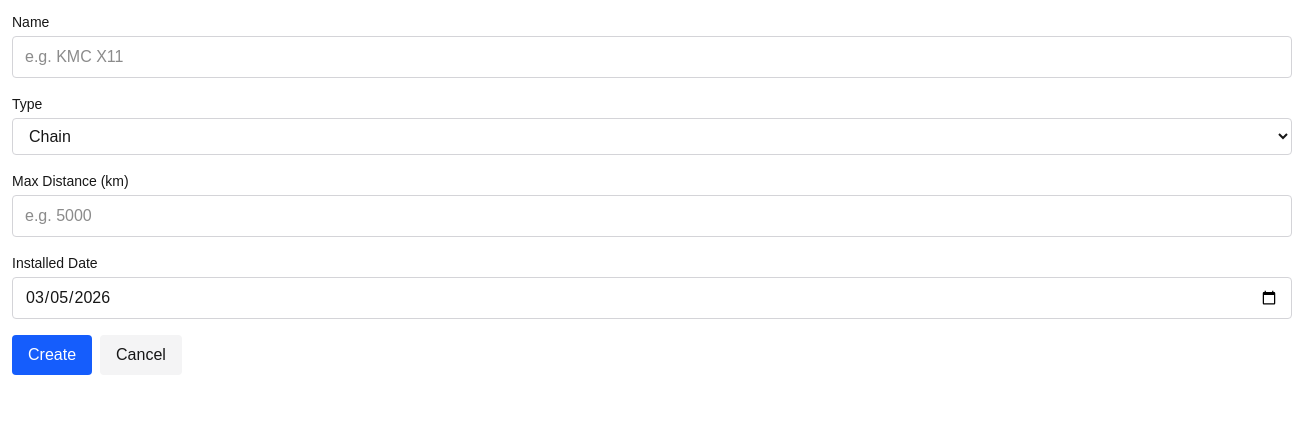
ComponentForm › shows error when name is empty
Type "5000" into the number field labelled "Max Distance (km)".
click(652, 216); type("5000")  # box x1=12 y1=195 x2=1292 y2=237
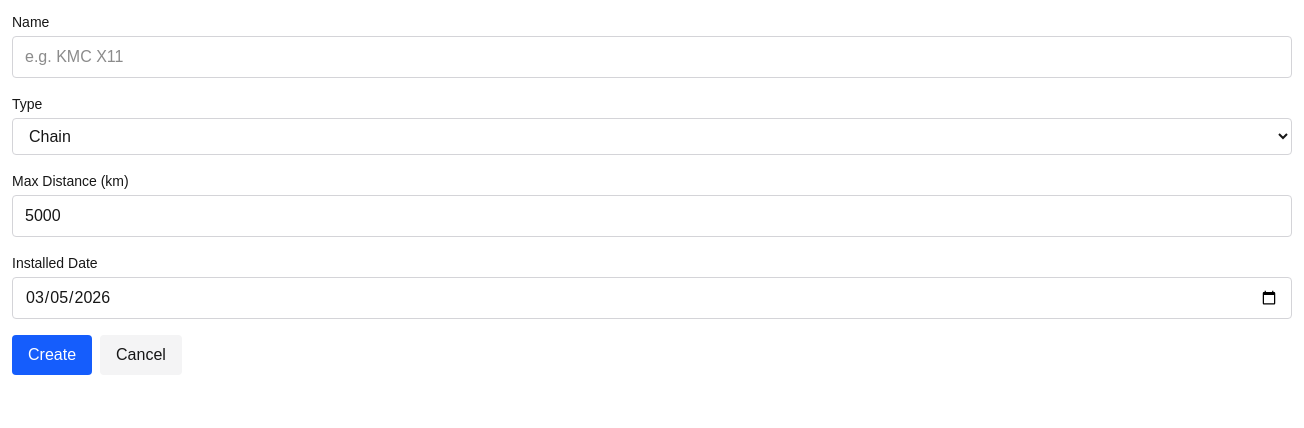
Click the button "Create".
click(52, 355)  # box x1=12 y1=335 x2=92 y2=375
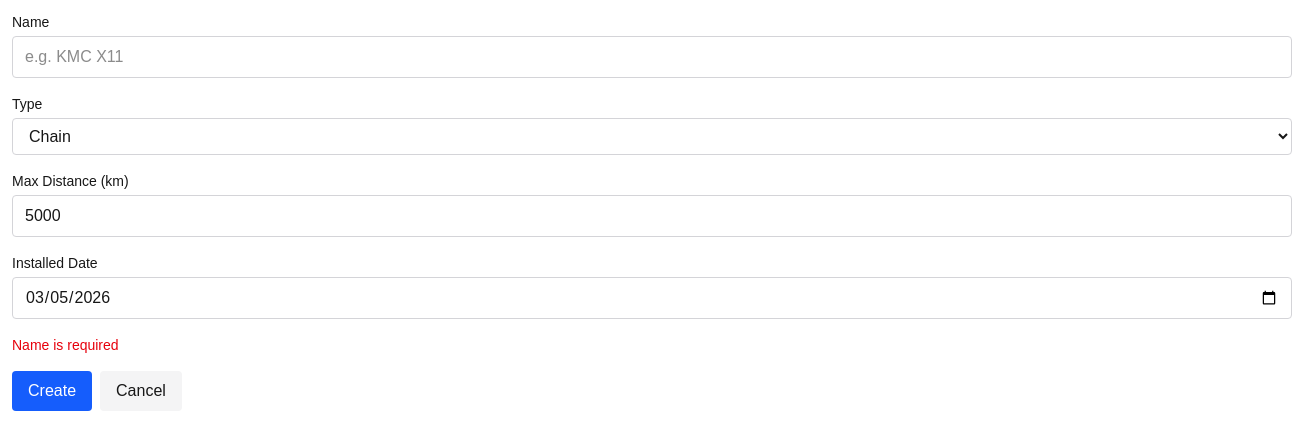
Expected: the text "Name is required" is shown, x1=12 y1=337 x2=119 y2=353
